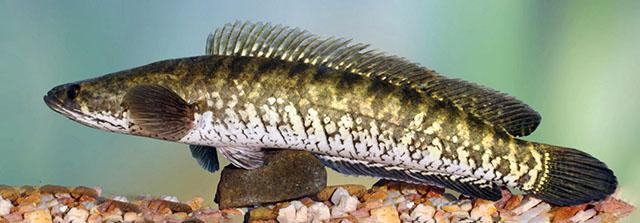Sirip Anal: (305, 144, 509, 210)
Sirip Dada: (104, 68, 223, 176)
Sirip Ekor: (512, 122, 622, 216), (31, 76, 109, 134)
Sirip Perut: (212, 134, 272, 176)
Sirip Punggung: (200, 14, 544, 146)
